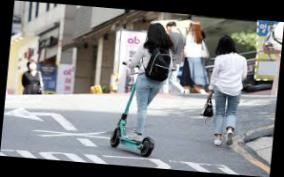nonhelmet: (106, 19, 177, 160)
